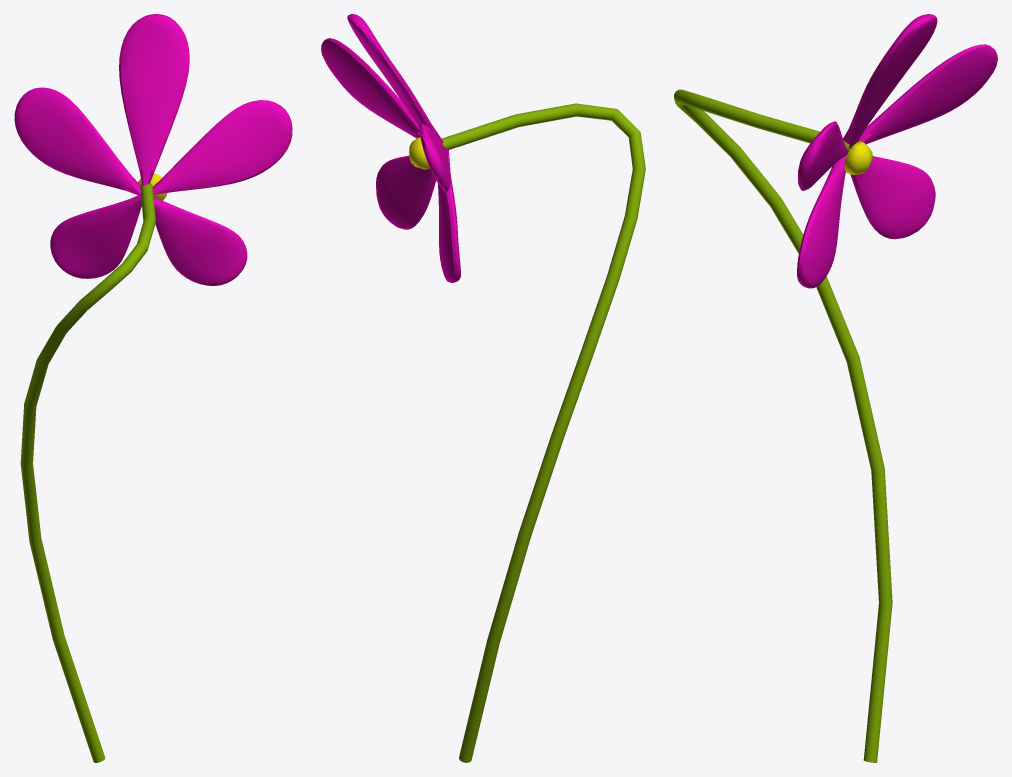
Rendered from l_kwiatek_1.fbx.
3 renders of one model, left to right at view 1: azimuth 30°, elevation 25°; view 2: azimuth 150°, elevation 25°; view 3: azimuth 270°, elevation 25°, orthographic. The views are drawn at different scales.
Parts seen in each view (by area): view 1: Circle, BézierCurve; view 2: BézierCurve, Circle; view 3: Circle, BézierCurve, Sphere.
Part boxes in pixels (x1,y1,x2,y2): Circle: [14, 14, 292, 285]; BézierCurve: [20, 183, 155, 762]; BézierCurve: [442, 103, 645, 762]; Circle: [321, 14, 460, 282]; Circle: [797, 14, 997, 288]; BézierCurve: [674, 89, 892, 762]; Sphere: [844, 141, 872, 175].
Size of the model in its own units: 0.3875 by 0.3625 by 0.9767.
